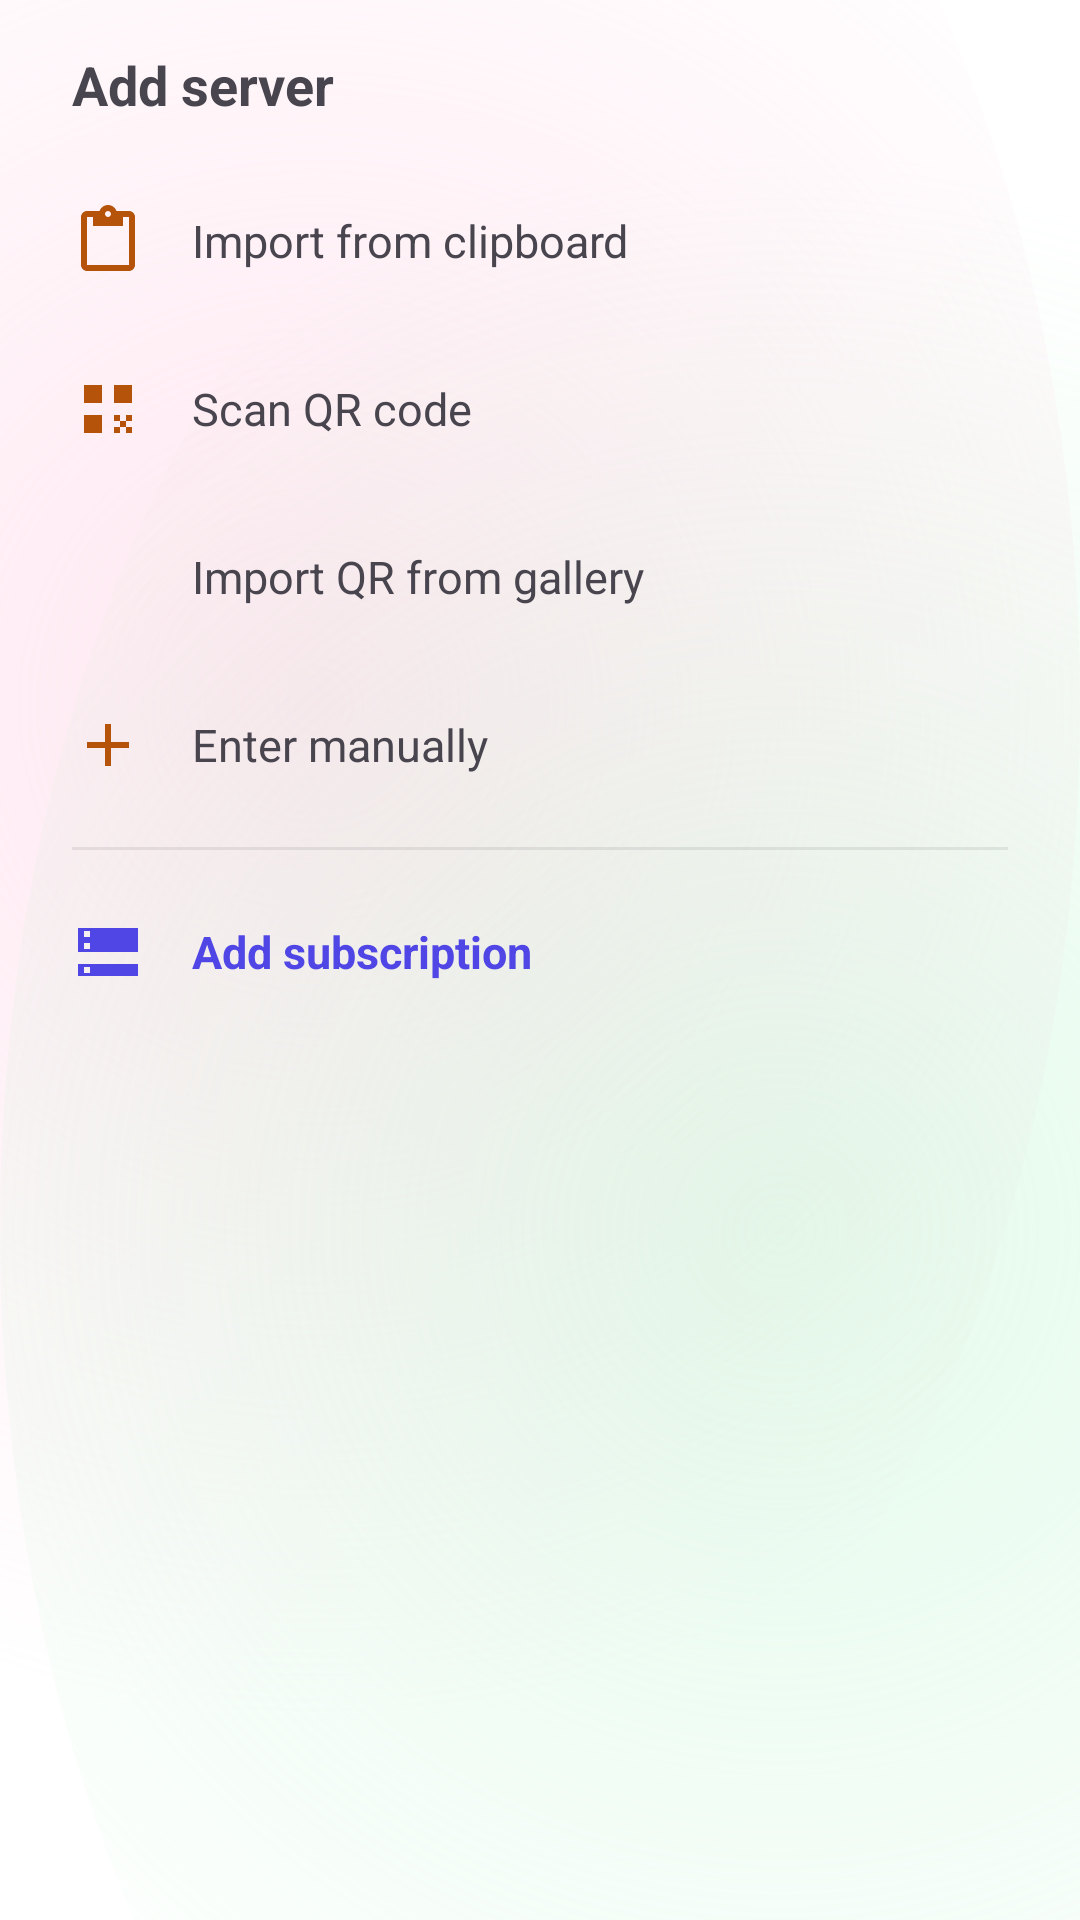

Icon bounding boxes for this 1080 × 1920 phone screenshot, format (x1, y1, x2, y2):
configs: (78, 928, 138, 976)
